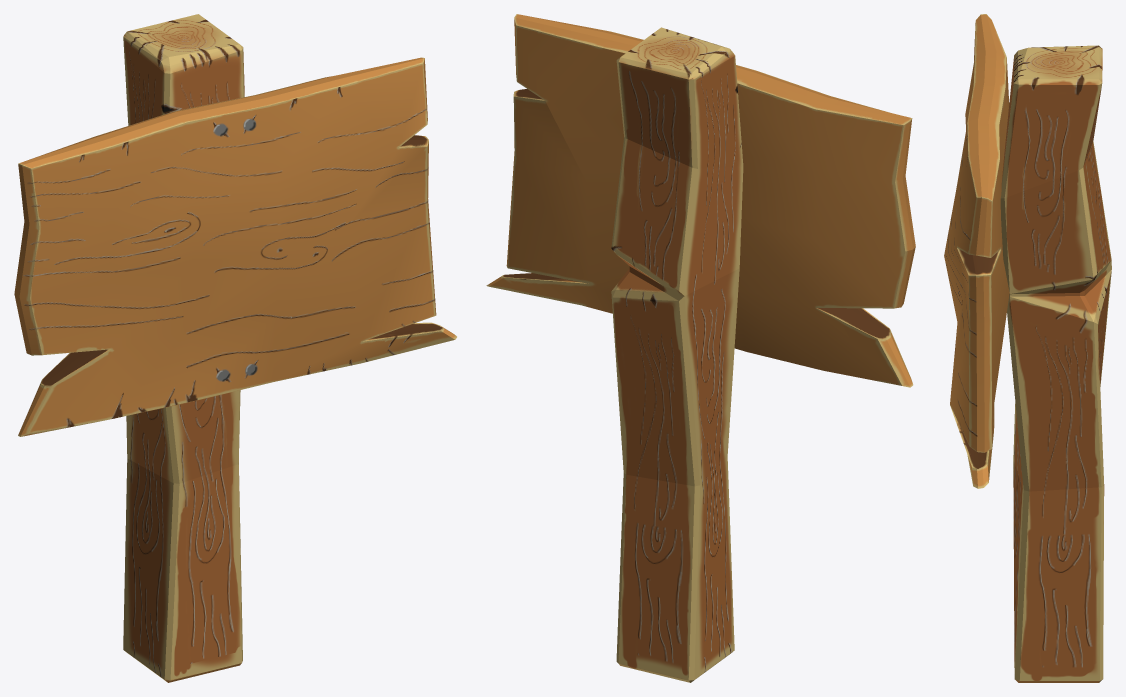
File: signpost.fbx
The picture shows the model from 3 angles, left to right: view 1: azimuth 30°, elevation 25°; view 2: azimuth 150°, elevation 25°; view 3: azimuth 270°, elevation 25°; orthographic projection. The views are drawn at different scales.
Parts seen in each view (by area): view 1: signpost, stand; view 2: signpost, stand; view 3: stand, signpost.
Boxes of the visible parts, left/top/right/bottom form: signpost: left=14, top=57, right=456, bottom=436; stand: left=123, top=14, right=244, bottom=682; signpost: left=486, top=14, right=915, bottom=387; stand: left=611, top=27, right=743, bottom=682; stand: left=1000, top=45, right=1111, bottom=682; signpost: left=944, top=14, right=1009, bottom=488.
Size of the model in its own units: 222 by 300 by 75.59.
